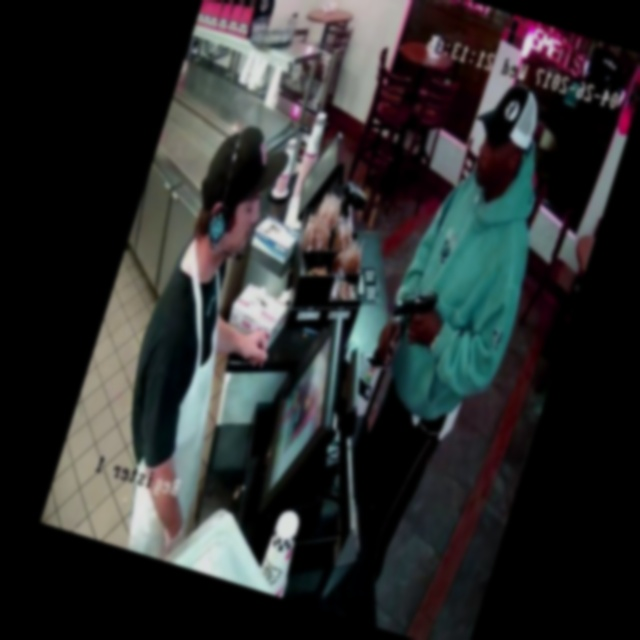gun: (376, 266, 455, 357)
